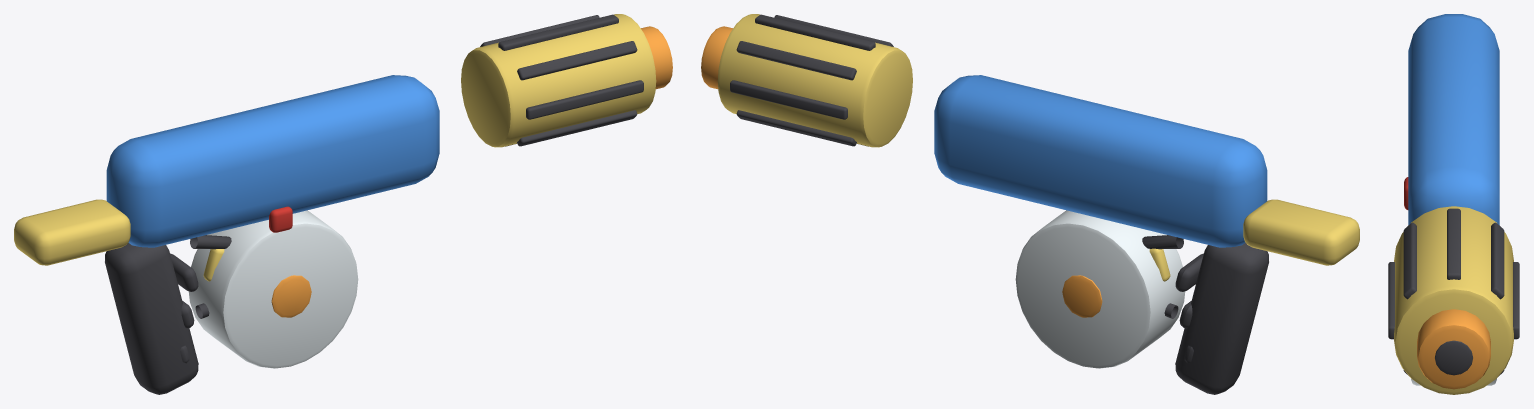
File: flywheel.glb
3 renders of one model, left to right at view 1: azimuth 30°, elevation 25°; view 2: azimuth 150°, elevation 25°; view 3: azimuth 270°, elevation 25°, orthographic. The views are drawn at different scales.
Visible parts, largest first — view 1: body, drum, cage, handle, battery, slot1, slot2, hub, slot0, muzzle, slot3, guard (+1 smaller); view 2: body, drum, cage, handle, battery, slot7, slot6, hub, slot0, muzzle, slot5, guard (+1 smaller); view 3: body, cage, muzzle, bore, slot0, slot1, slot7, slot2, slot6, rev.
Boxes of the visible parts, x1=… form: body: x1=106, y1=75, x2=439, y2=247; drum: x1=188, y1=210, x2=358, y2=368; cage: x1=461, y1=14, x2=656, y2=147; handle: x1=105, y1=243, x2=198, y2=394; battery: x1=14, y1=199, x2=130, y2=265; slot1: x1=517, y1=41, x2=637, y2=80; slot2: x1=526, y1=80, x2=643, y2=119; hub: x1=271, y1=275, x2=311, y2=317; slot0: x1=498, y1=14, x2=618, y2=50; muzzle: x1=641, y1=26, x2=672, y2=89; slot3: x1=517, y1=110, x2=637, y2=146; guard: x1=190, y1=235, x2=231, y2=318; body: x1=934, y1=75, x2=1267, y2=247; drum: x1=1015, y1=210, x2=1185, y2=368; cage: x1=717, y1=14, x2=912, y2=147; handle: x1=1175, y1=243, x2=1268, y2=394; battery: x1=1243, y1=199, x2=1359, y2=265; slot7: x1=736, y1=41, x2=856, y2=80; slot6: x1=730, y1=80, x2=847, y2=119; hub: x1=1062, y1=275, x2=1102, y2=317; slot0: x1=755, y1=14, x2=875, y2=50; muzzle: x1=701, y1=26, x2=732, y2=89; slot5: x1=736, y1=110, x2=856, y2=146; guard: x1=1142, y1=235, x2=1183, y2=318; body: x1=1408, y1=14, x2=1499, y2=224; cage: x1=1394, y1=206, x2=1513, y2=394; muzzle: x1=1417, y1=309, x2=1490, y2=389; bore: x1=1435, y1=340, x2=1472, y2=375; slot0: x1=1447, y1=208, x2=1460, y2=279; slot1: x1=1403, y1=222, x2=1416, y2=299; slot7: x1=1491, y1=222, x2=1504, y2=299; slot2: x1=1388, y1=262, x2=1394, y2=339; slot6: x1=1513, y1=262, x2=1519, y2=339; rev: x1=1404, y1=177, x2=1408, y2=209.
Size of the model in its own units: 0.602 by 0.2365 by 0.092.
